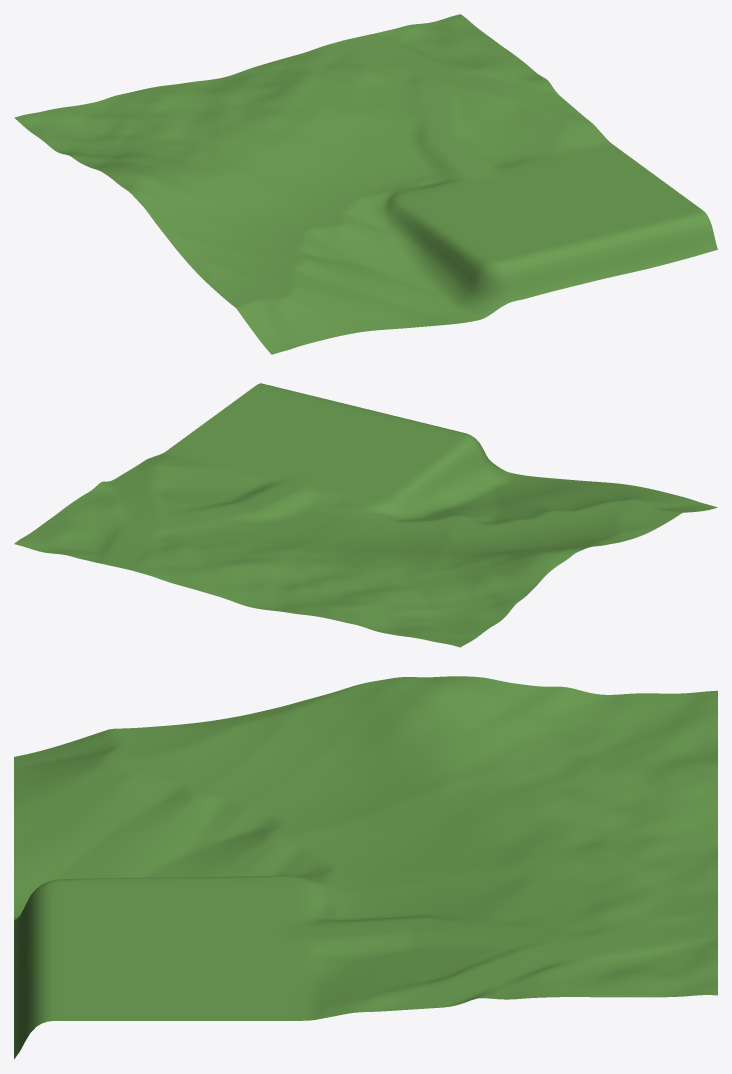
The model's file is SM_Terrain_03_06.fbx.
3 views of the same model, one above another, from view 1: azimuth 30°, elevation 25°; view 2: azimuth 150°, elevation 25°; view 3: azimuth 270°, elevation 25° (orthographic). The views are drawn at different scales.
Parts seen in each view (by area): view 1: SM_Terrain_03_06; view 2: SM_Terrain_03_06; view 3: SM_Terrain_03_06.
Boxes of the visible parts, x1=… form: SM_Terrain_03_06: x1=14, y1=14, x2=717, y2=354; SM_Terrain_03_06: x1=14, y1=383, x2=717, y2=647; SM_Terrain_03_06: x1=14, y1=676, x2=717, y2=1058.
Bounding box in the file's own units: 384 × 62.65 × 384.
